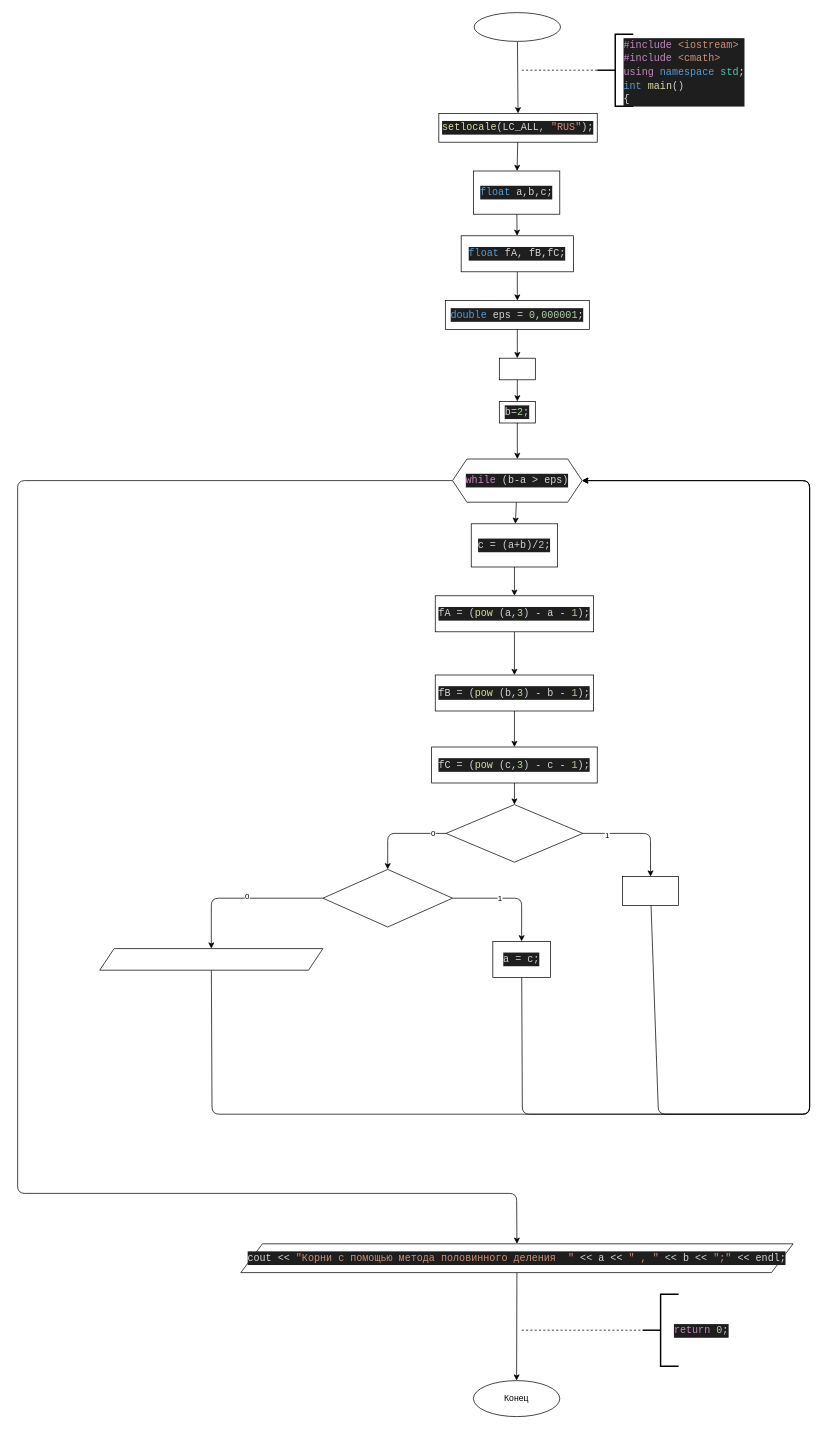
Image size: 828x1429. Some labels were removed from this diagram. The shapes that lost their labels are listed below. From the top down, each one's centre as x and y in pixels, then its label:
point (517, 26): Начало
point (517, 368): a= 1 ;
point (514, 833): if (fA * fC < 0 )
point (387, 898): if (fC * fB < 0 )
point (650, 890): b = c;
point (211, 959): cout << "Что-то не то !" << endl;
